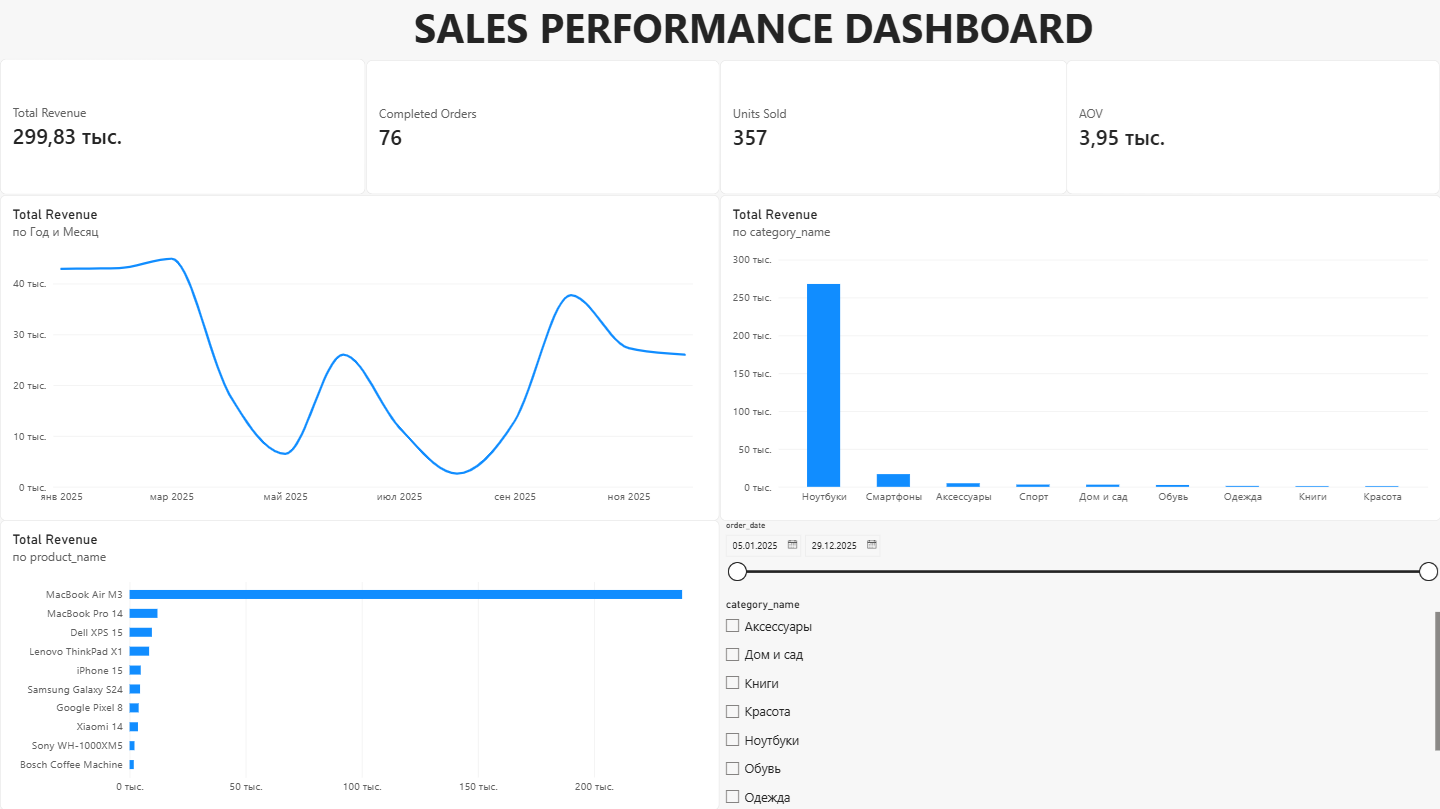

The dashboard page shown, as its layout file describes it:
{"tool":"powerbi","page":{"name":"Страница 1","canvas":[1920,1080],"ordinal":0},"visuals":[{"type":"cardVisual","fields":{"Data":["public categories.Total Revenue"]},"box":[0,78.2,487.8,181.1],"z":0},{"type":"cardVisual","fields":{"Data":["public categories.Completed Orders"]},"box":[487.8,80.3,471.4,179.1],"z":1},{"type":"cardVisual","fields":{"Data":["public categories.Units Sold"]},"box":[959.2,80.3,463.1,179.1],"z":2},{"type":"cardVisual","fields":{"Data":["public categories.AOV"]},"box":[1422.3,80.3,498.1,179.1],"z":3},{"type":"lineChart","fields":{"Category":["public orders.order_date.Variation.Иерархия дат.Год","public orders.order_date.Variation.Иерархия дат.Месяц"],"Y":["public categories.Total Revenue"]},"box":[0,259.3,959.2,434.3],"z":4},{"type":"clusteredColumnChart","fields":{"Category":["public categories.category_name"],"Y":["public categories.Total Revenue"]},"box":[959.2,259.3,961.2,434.3],"z":5},{"type":"clusteredBarChart","fields":{"Category":["public products.product_name"],"Y":["public categories.Total Revenue"]},"box":[0,693.7,959.2,387],"z":6},{"type":"slicer","fields":{"Values":["public orders.order_date"]},"box":[959.2,693.7,961.2,102.9],"z":7},{"type":"slicer","fields":{"Values":["public categories.category_name"]},"box":[959.2,796.6,961.2,284],"z":8},{"type":"textbox","box":[551.6,0,957.1,78.2],"z":9}]}

Visuals, with their boxes in screenshot pixels (x1, y1, x2, y2), scaled from the page's 1920x1080 canvas onto the 1440x809 screenshot:
cardVisual - public categories.Total Revenue: bbox=[0, 59, 366, 194]
cardVisual - public categories.Completed Orders: bbox=[366, 60, 719, 194]
cardVisual - public categories.Units Sold: bbox=[719, 60, 1067, 194]
cardVisual - public categories.AOV: bbox=[1067, 60, 1439, 194]
lineChart - public orders.order_date.Variation.Иерархия дат.Год x public orders.order_date.Variation.Иерархия дат.Месяц: bbox=[0, 194, 719, 520]
clusteredColumnChart - public categories.category_name x public categories.Total Revenue: bbox=[719, 194, 1439, 520]
clusteredBarChart - public products.product_name x public categories.Total Revenue: bbox=[0, 520, 719, 808]
slicer - public orders.order_date: bbox=[719, 520, 1439, 597]
slicer - public categories.category_name: bbox=[719, 597, 1439, 808]
textbox: bbox=[414, 0, 1132, 59]
